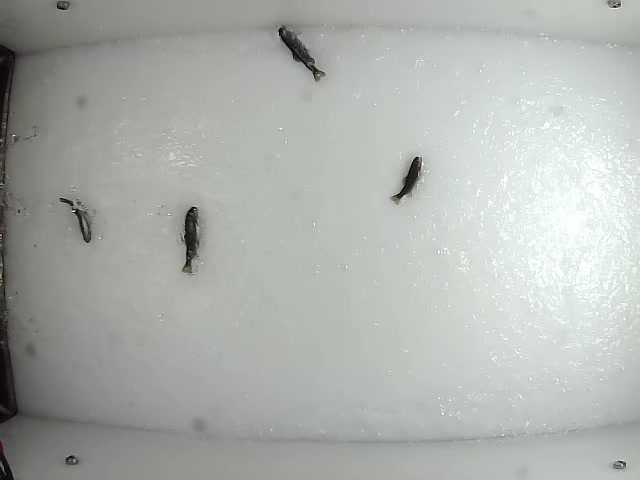fish: (277, 24, 327, 84), (388, 155, 423, 207), (179, 205, 203, 277), (58, 196, 94, 244)
